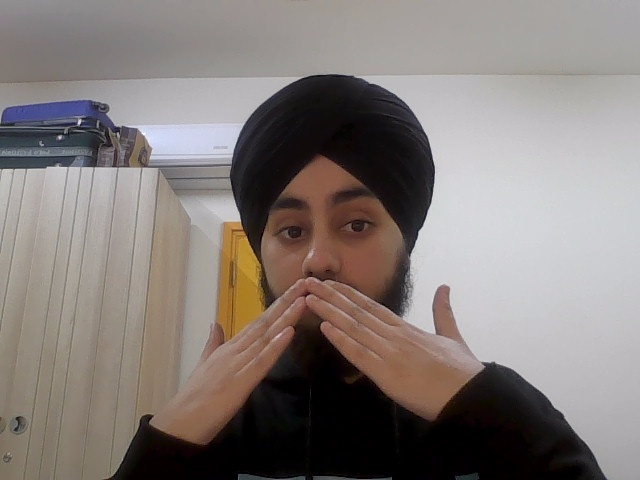Thanks: (150, 277, 490, 427)
